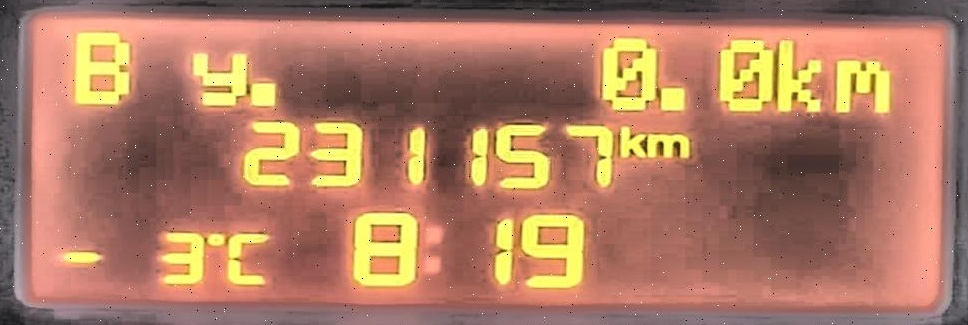-: (247, 79, 280, 108), (656, 84, 687, 112)
0: (598, 36, 657, 111), (715, 37, 773, 113)
1: (490, 216, 515, 286), (403, 124, 426, 186), (466, 126, 489, 186)
2: (239, 120, 302, 188)
3: (305, 120, 365, 188), (157, 230, 206, 285)
5: (491, 122, 552, 191)
7: (561, 123, 615, 191)
8: (348, 209, 418, 288)
9: (516, 212, 585, 289)
X: (70, 29, 133, 106), (776, 37, 825, 113), (189, 50, 249, 107), (832, 57, 890, 115), (224, 231, 272, 288), (420, 224, 443, 277), (647, 132, 692, 159), (617, 123, 648, 157)
